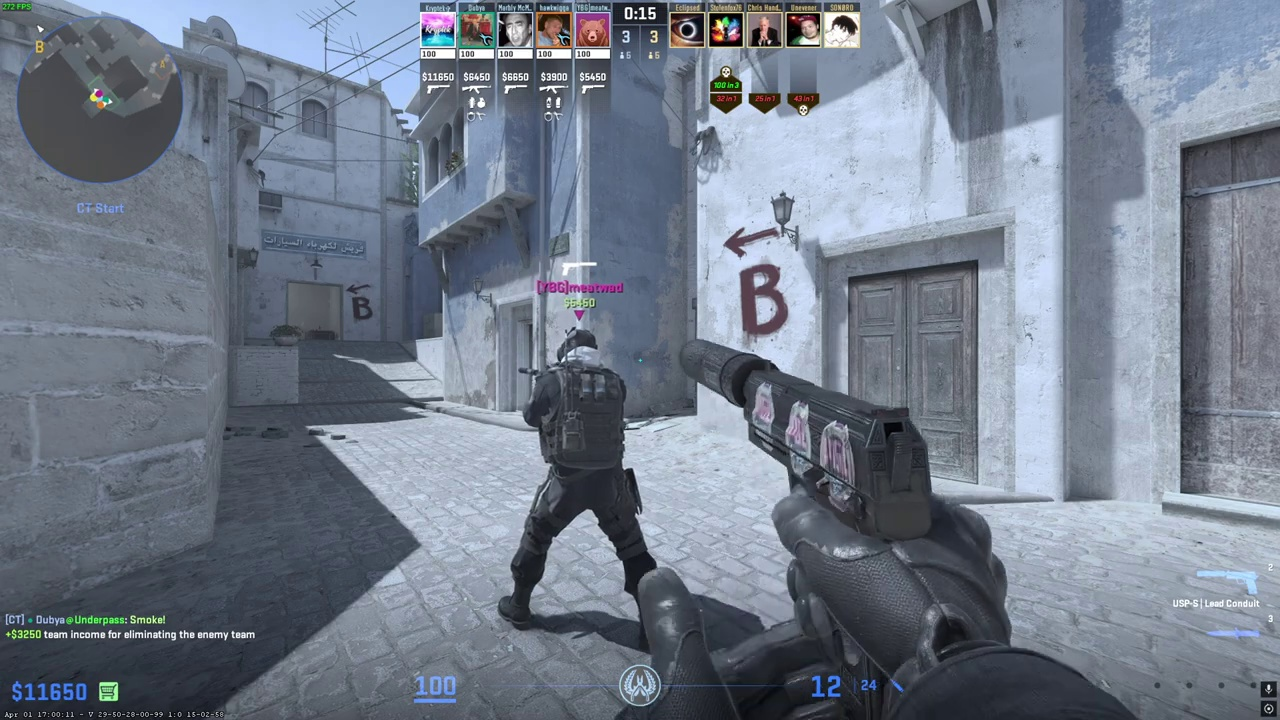CT: (510, 327, 655, 646)
